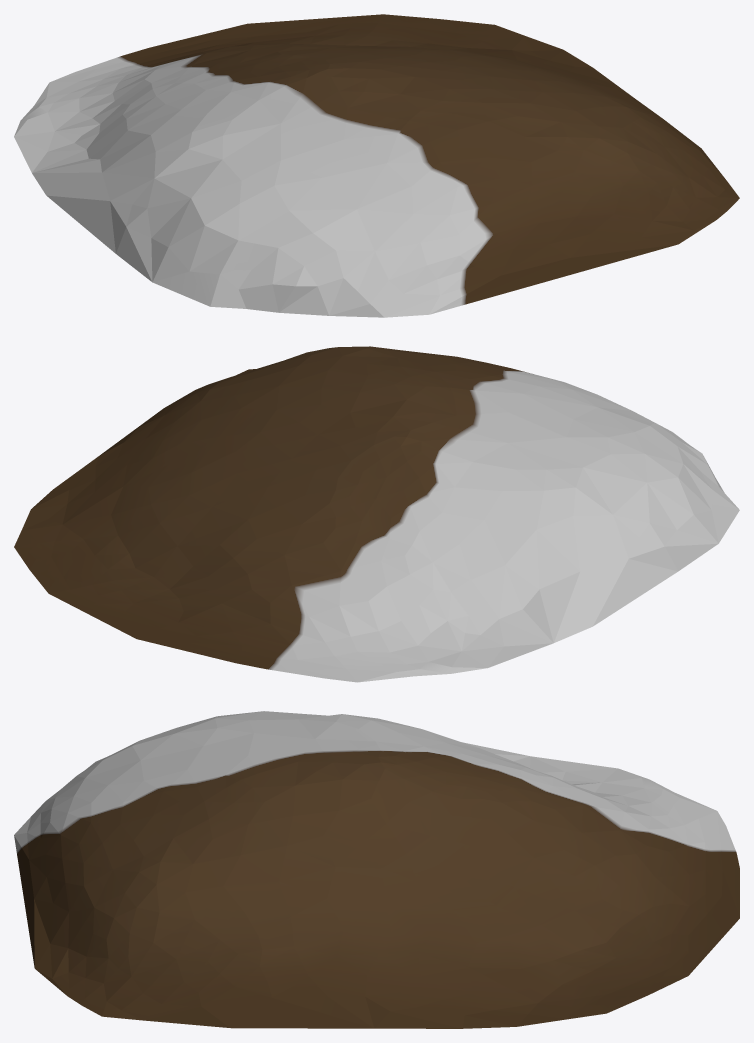
The model's file is Hill_03.fbx.
3 views of the same model, one above another, from view 1: azimuth 30°, elevation 25°; view 2: azimuth 150°, elevation 25°; view 3: azimuth 270°, elevation 25° (orthographic). The views are drawn at different scales.
Parts seen in each view (by area): view 1: Hill_03; view 2: Hill_03; view 3: Hill_03.
Boxes of the visible parts, x1,y1,x2,y2 form: Hill_03: (14, 14, 739, 317); Hill_03: (14, 346, 739, 682); Hill_03: (14, 711, 739, 1028).
Bounding box in the file's own units: 19.23 × 3.33 × 20.79.
